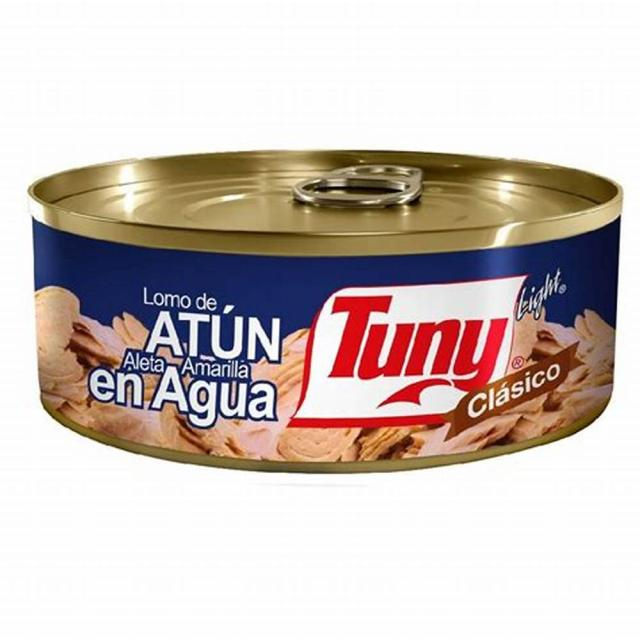Lata: (20, 146, 618, 466)
